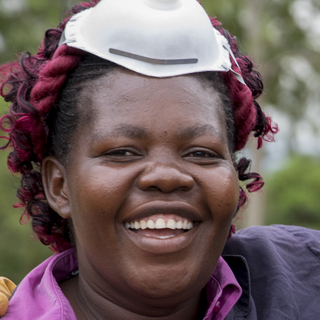eye: (175, 143, 225, 165), (96, 143, 146, 163)
